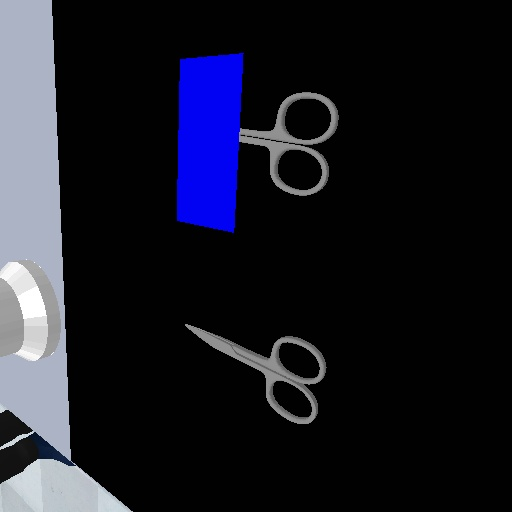tijera: (180, 313, 330, 427), (237, 87, 343, 201)
